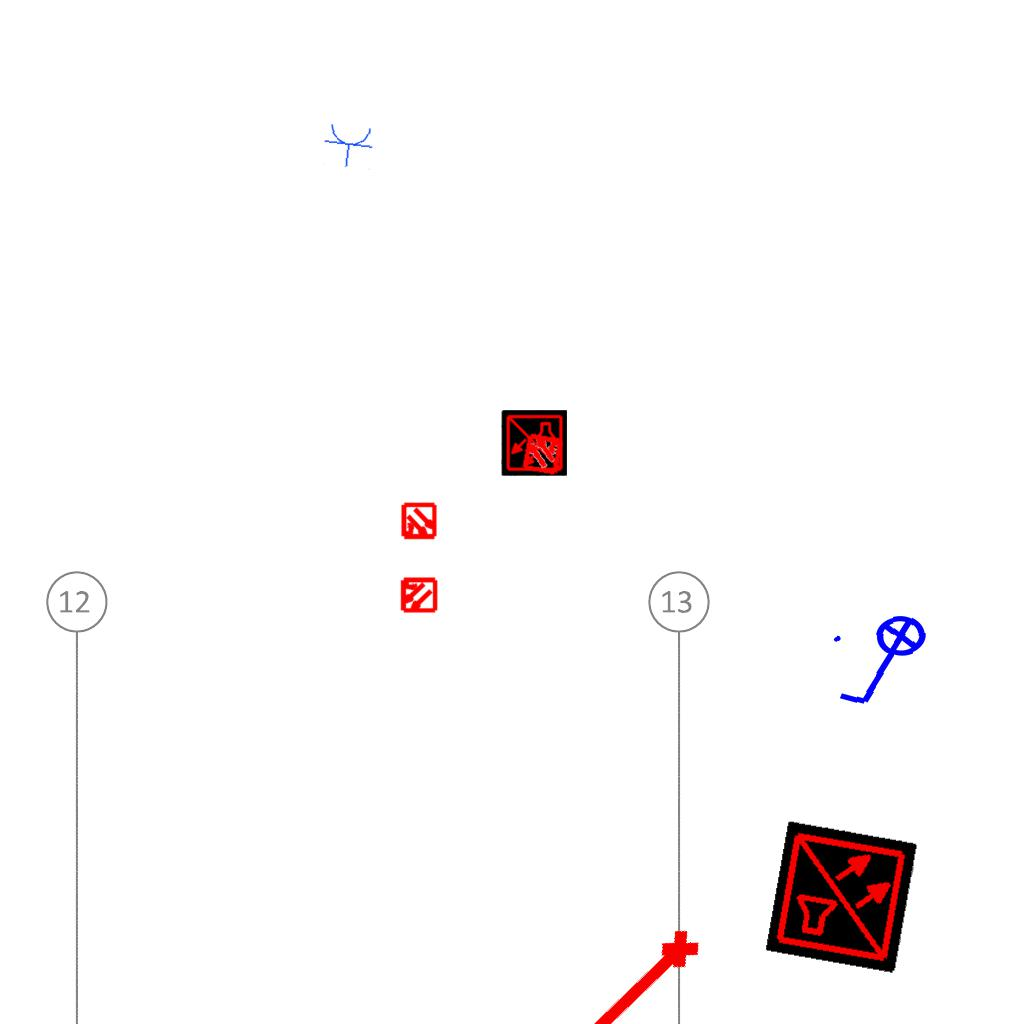ASR_Ansaugoeffnung: (553, 920, 713, 1024)
Ausschalter_beleuchtet: (826, 612, 944, 714)
OKW_Multisensormelder_(Kombination_optischer_Rauch-Kahlenmonoxid_Waerme-Melder): (765, 820, 919, 974), (501, 410, 567, 476)
OT_Multisensormelder_(Kombination_RMO_WMD): (510, 420, 576, 486), (390, 567, 446, 623), (391, 494, 447, 550)
Schukosteckdose_einfach: (321, 121, 377, 170)
